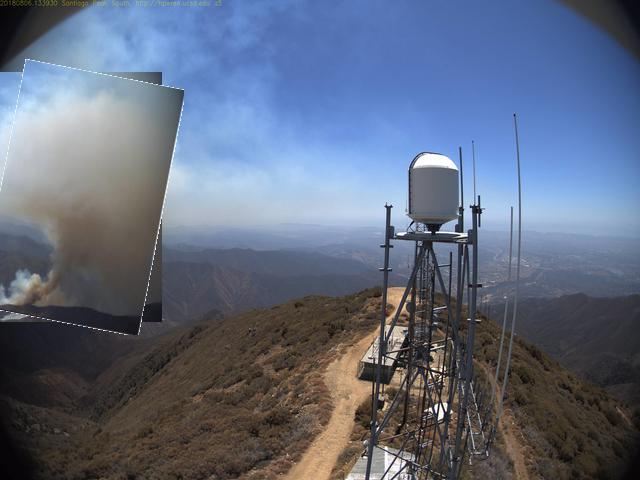smoke: (1, 66, 176, 331)
